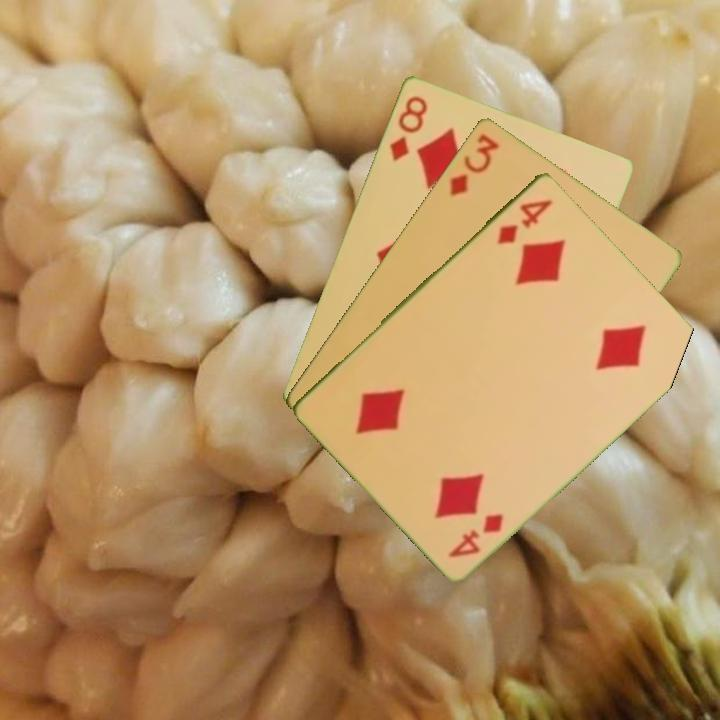3d: (446, 129, 502, 199)
4d: (492, 195, 555, 247), (444, 509, 507, 560)
8d: (386, 92, 430, 164)
